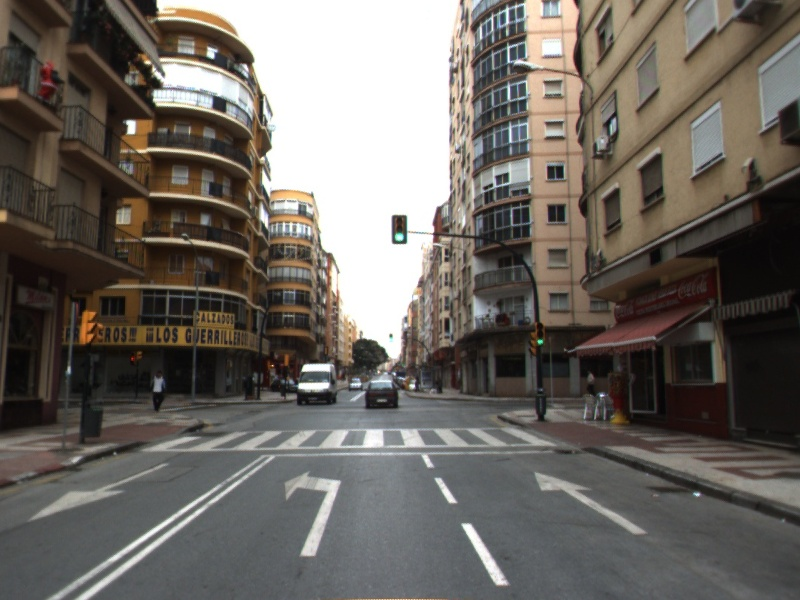LEFT: (283, 469, 343, 559)
STRAIGHT: (533, 470, 649, 536)
